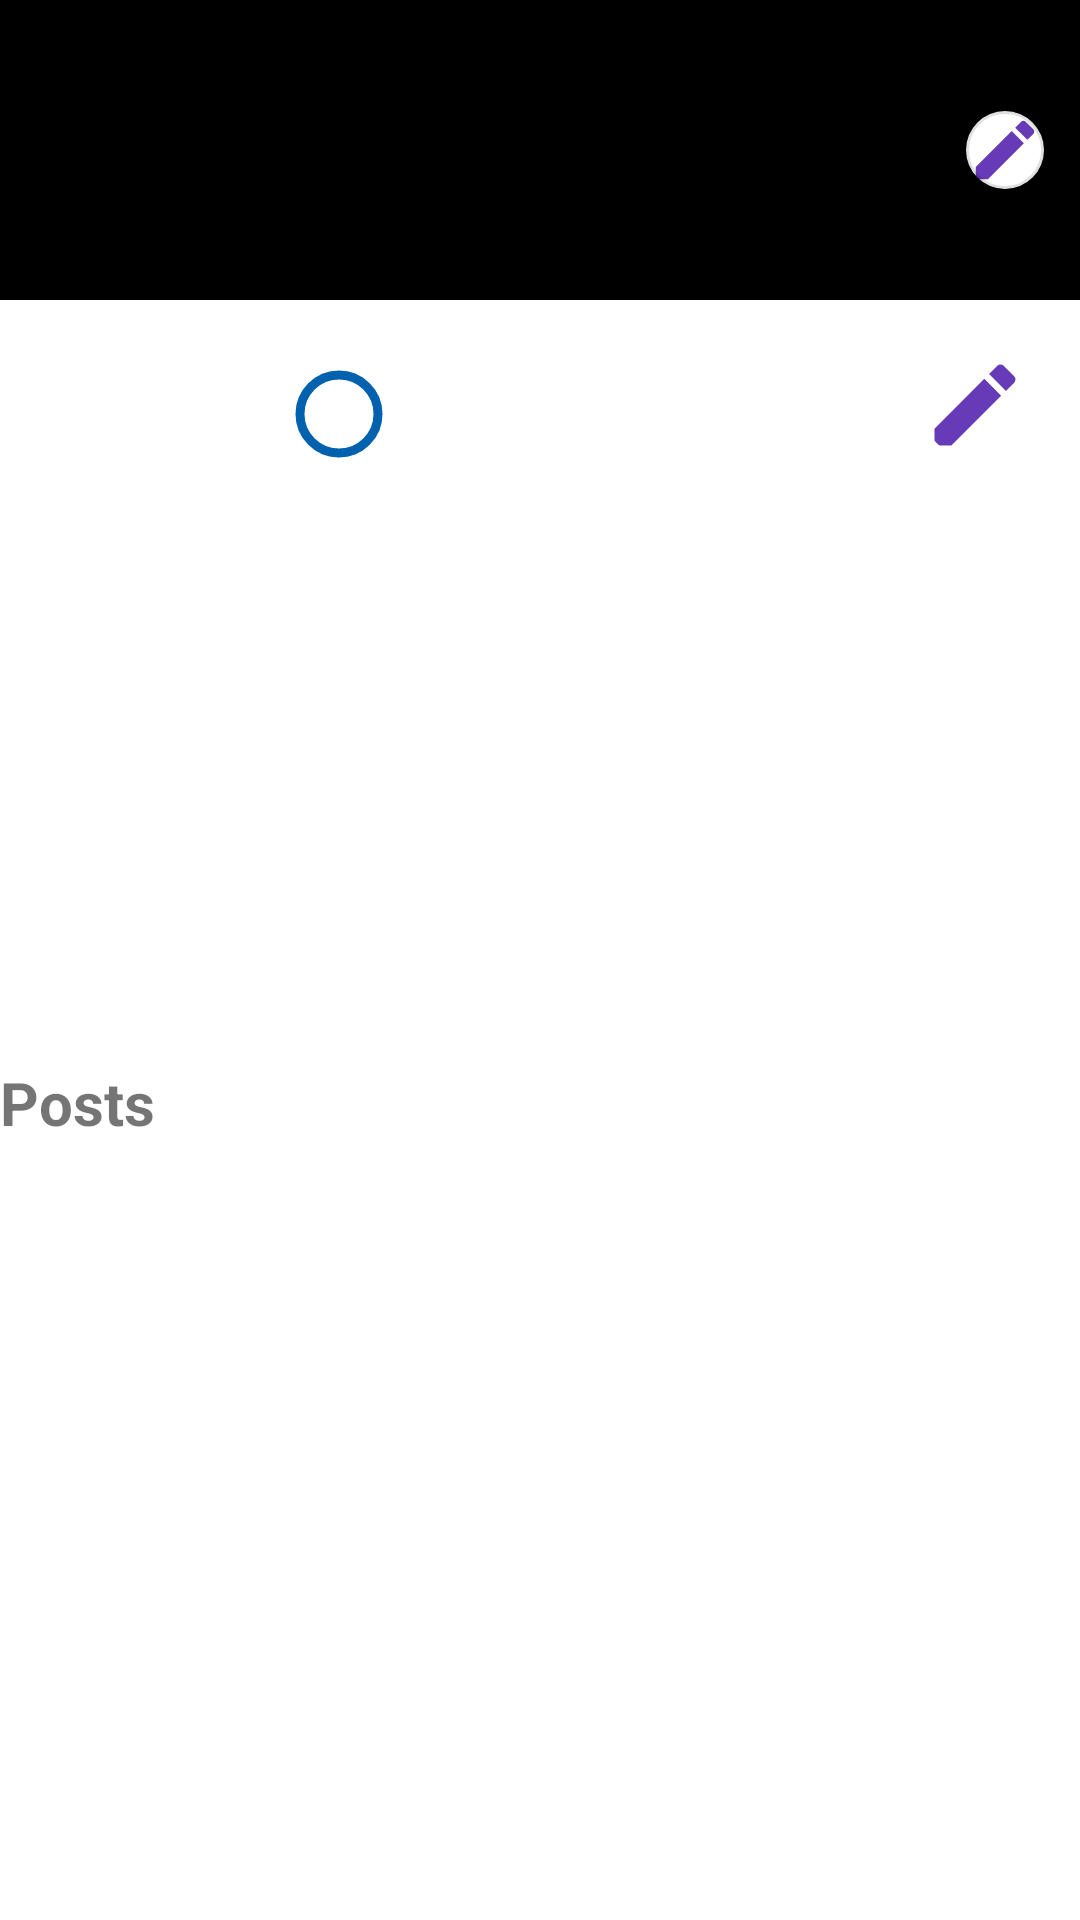

Where to tap for icons on this 1080px x 1920px app screen, as (x,y):
edit: (1005,150), (975,405)
